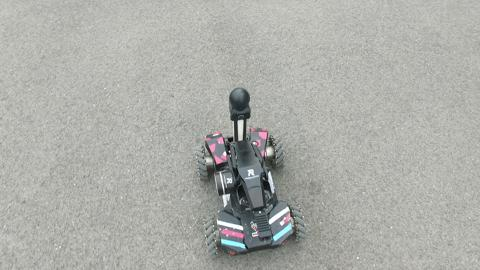chariot: (195, 86, 306, 257)
